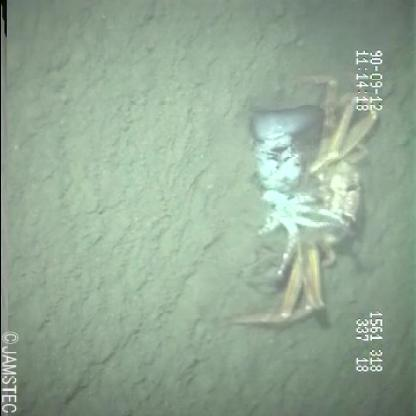Bio: (229, 67, 379, 328)
